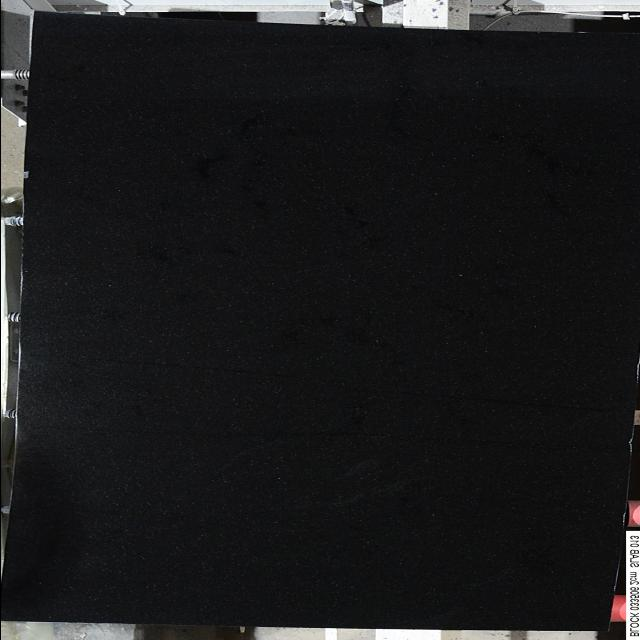chapa: (2, 12, 638, 631)
